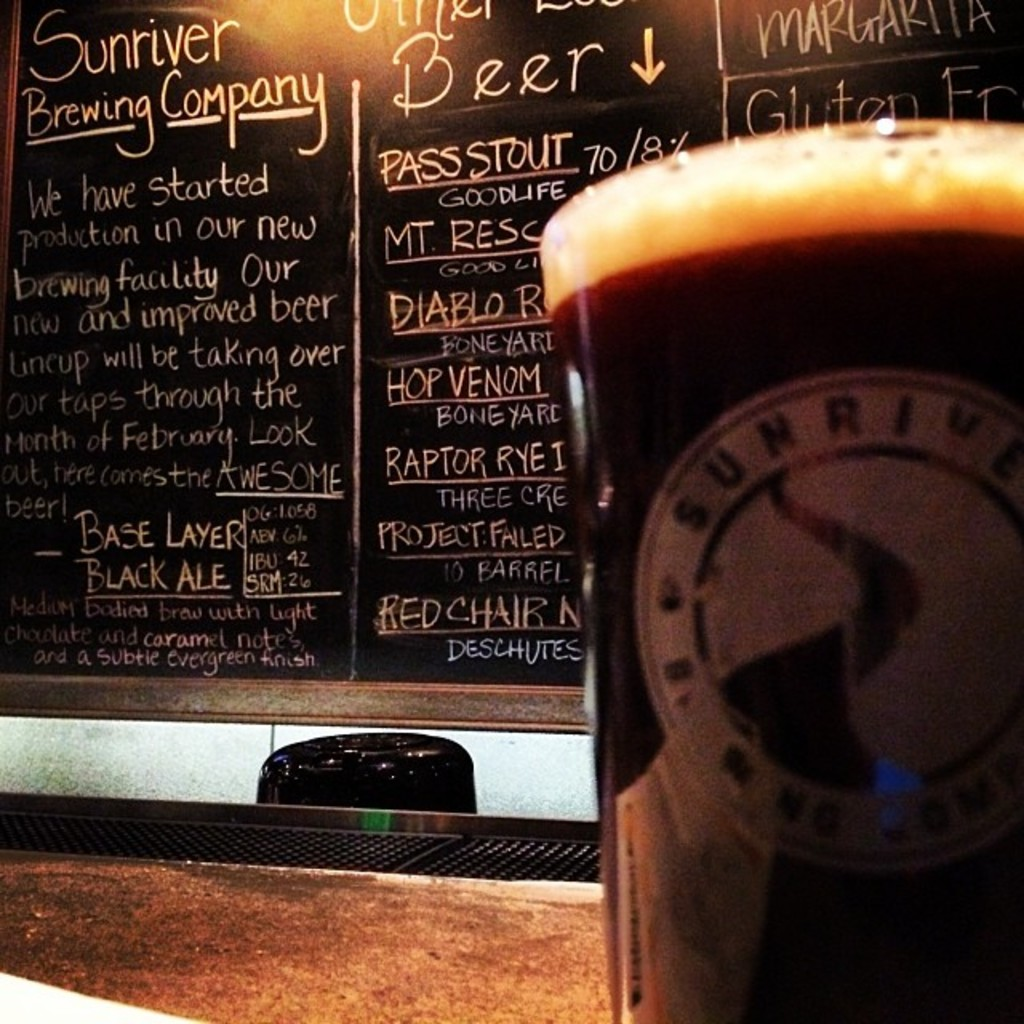Beer: (547, 131, 1022, 1019)
